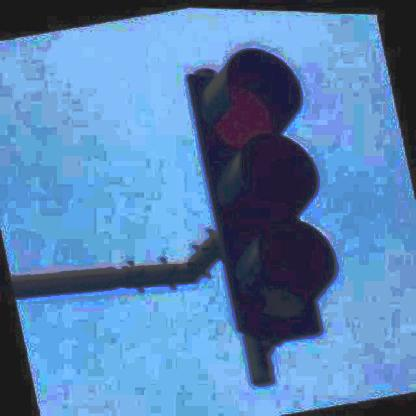Traffic Light -Red-: (183, 37, 352, 349)
